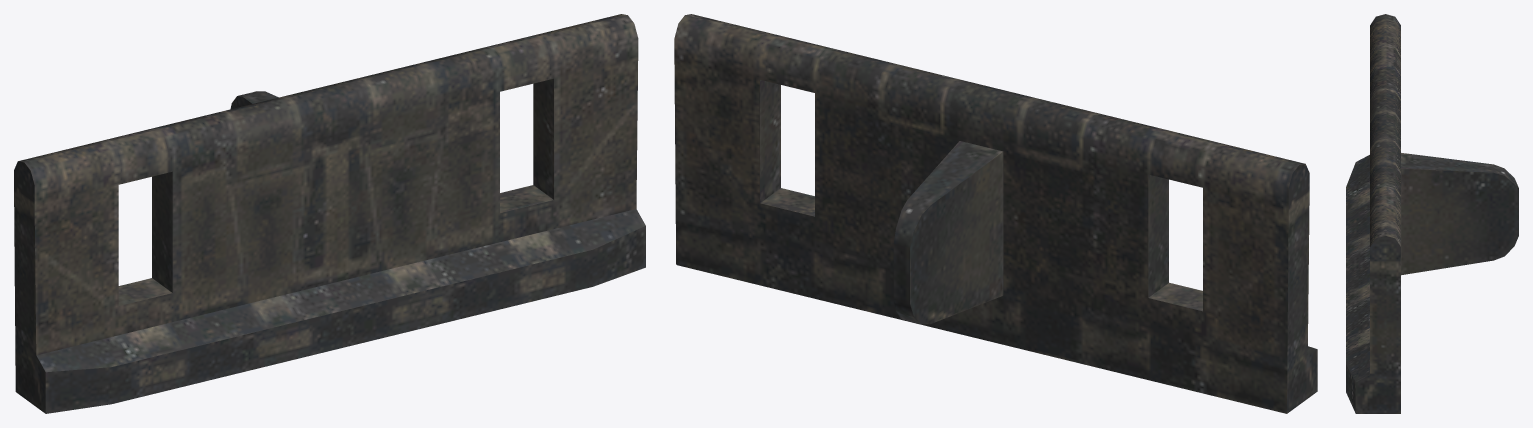
The picture shows the model from 3 angles, left to right: view 1: azimuth 30°, elevation 25°; view 2: azimuth 150°, elevation 25°; view 3: azimuth 270°, elevation 25°; orthographic projection. The views are drawn at different scales.
Visible parts, largest first — view 1: set_0_group_0; view 2: set_0_group_0; view 3: set_0_group_0.
Part boxes in pixels (x1,y1,x2,y2): set_0_group_0: (14,14,645,413); set_0_group_0: (674,14,1317,413); set_0_group_0: (1346,14,1518,413).
Size of the model in its own units: 0.44 by 0.1654 by 0.145.
Materials: 1 (1 with a texture image).
